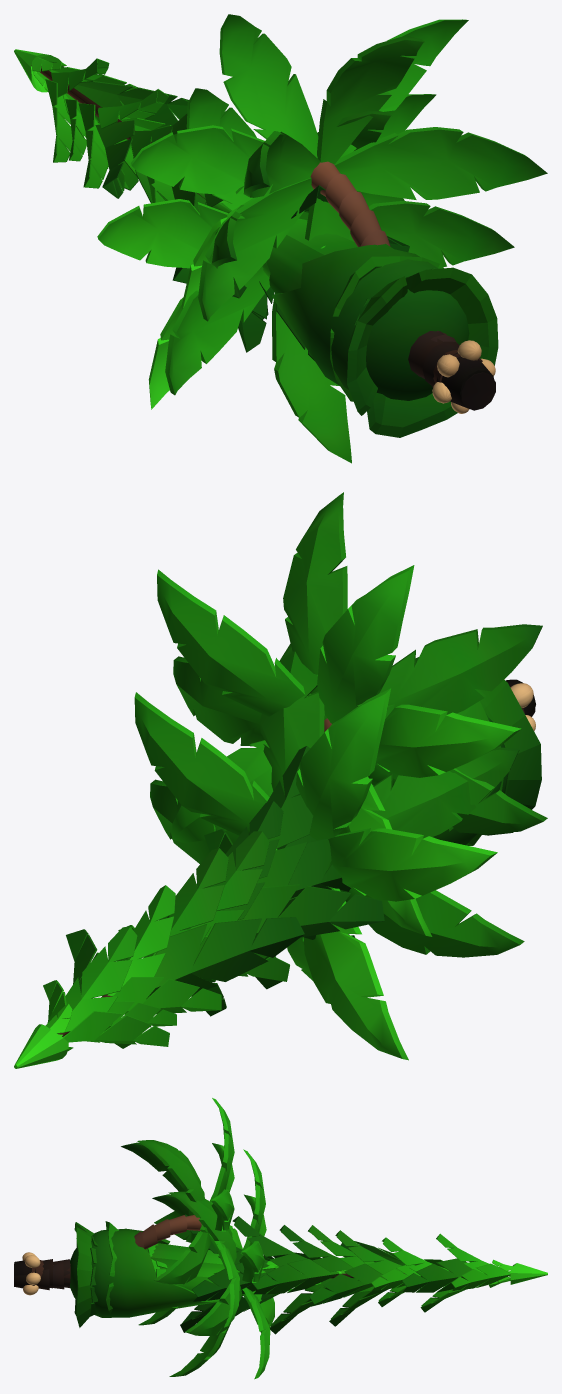
Rendered from trees.fbx.
3 views of the same model, one above another, from view 1: azimuth 30°, elevation 25°; view 2: azimuth 150°, elevation 25°; view 3: azimuth 270°, elevation 25° (orthographic). The views are drawn at different scales.
Visible parts, largest first — view 1: Tree1, tree2, Cylinder.005, Cylinder.006, tree8.001, Tree1.002, tree2.002; view 2: Tree1, tree2, Cylinder.006, tree8.001; view 3: Cylinder.006, Tree1, Cylinder.005, tree2, tree8.001, Tree2.003, Tree1.002.
Boxes of the visible parts, <box> form: Tree1: <box>131,14,547,410</box>; tree2: <box>97,88,514,463</box>; Cylinder.005: <box>198,193,469,400</box>; Cylinder.006: <box>14,49,409,360</box>; tree8.001: <box>309,245,498,437</box>; Tree1.002: <box>432,340,495,413</box>; tree2.002: <box>432,340,495,413</box>; Tree1: <box>157,492,547,936</box>; tree2: <box>134,643,535,1060</box>; Cylinder.006: <box>14,746,384,1068</box>; tree8.001: <box>415,657,541,845</box>; Cylinder.006: <box>180,1214,547,1334</box>; Tree1: <box>14,1098,242,1327</box>; Cylinder.005: <box>70,1228,346,1317</box>; tree2: <box>14,1149,274,1379</box>; tree8.001: <box>32,1221,180,1327</box>; Tree2.003: <box>90,1236,167,1316</box>; Tree1.002: <box>22,1252,40,1294</box>.
Size of the model in its own units: 304 by 346 by 655.
